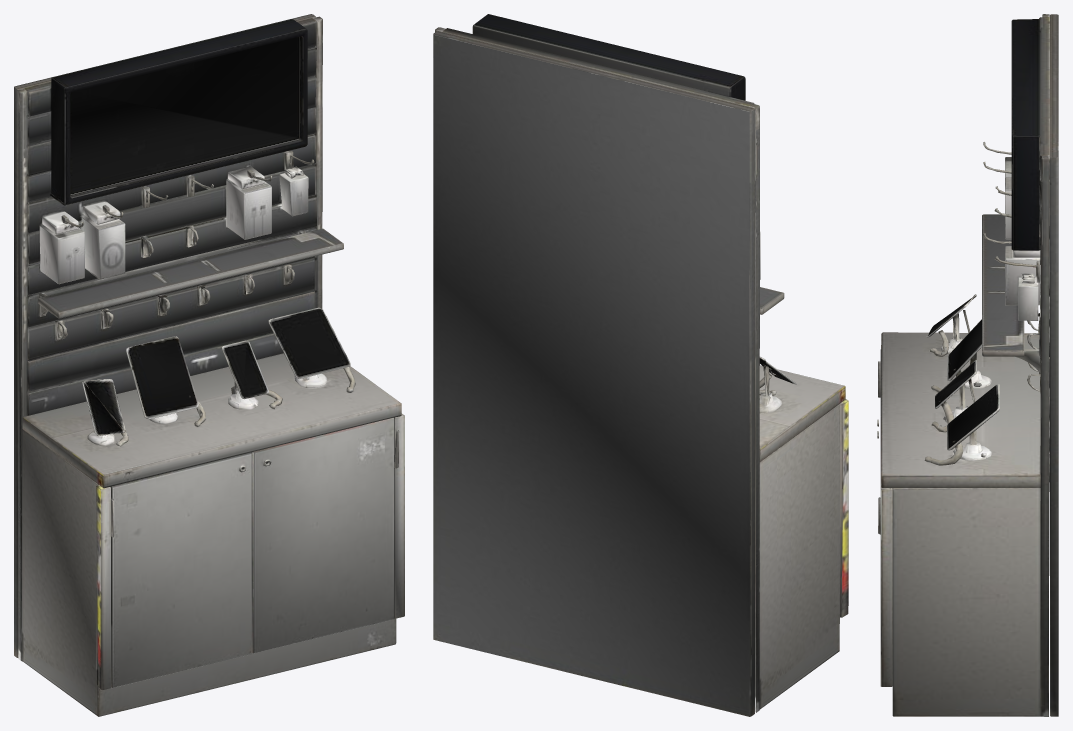
File: tech-display-t25.glb
3 renders of one model, left to right at view 1: azimuth 30°, elevation 25°; view 2: azimuth 150°, elevation 25°; view 3: azimuth 270°, elevation 25°, orthographic. The views are drawn at different scales.
Visible parts, largest first — view 1: tech-display-t25; view 2: tech-display-t25; view 3: tech-display-t25.
Part boxes in pixels (left/top/right/bottom): tech-display-t25: left=14, top=14, right=404, bottom=716; tech-display-t25: left=433, top=14, right=848, bottom=716; tech-display-t25: left=877, top=14, right=1058, bottom=716.
Bounding box in the file's own units: 1.1 × 2 × 0.579.
1 material, 1 textured.
